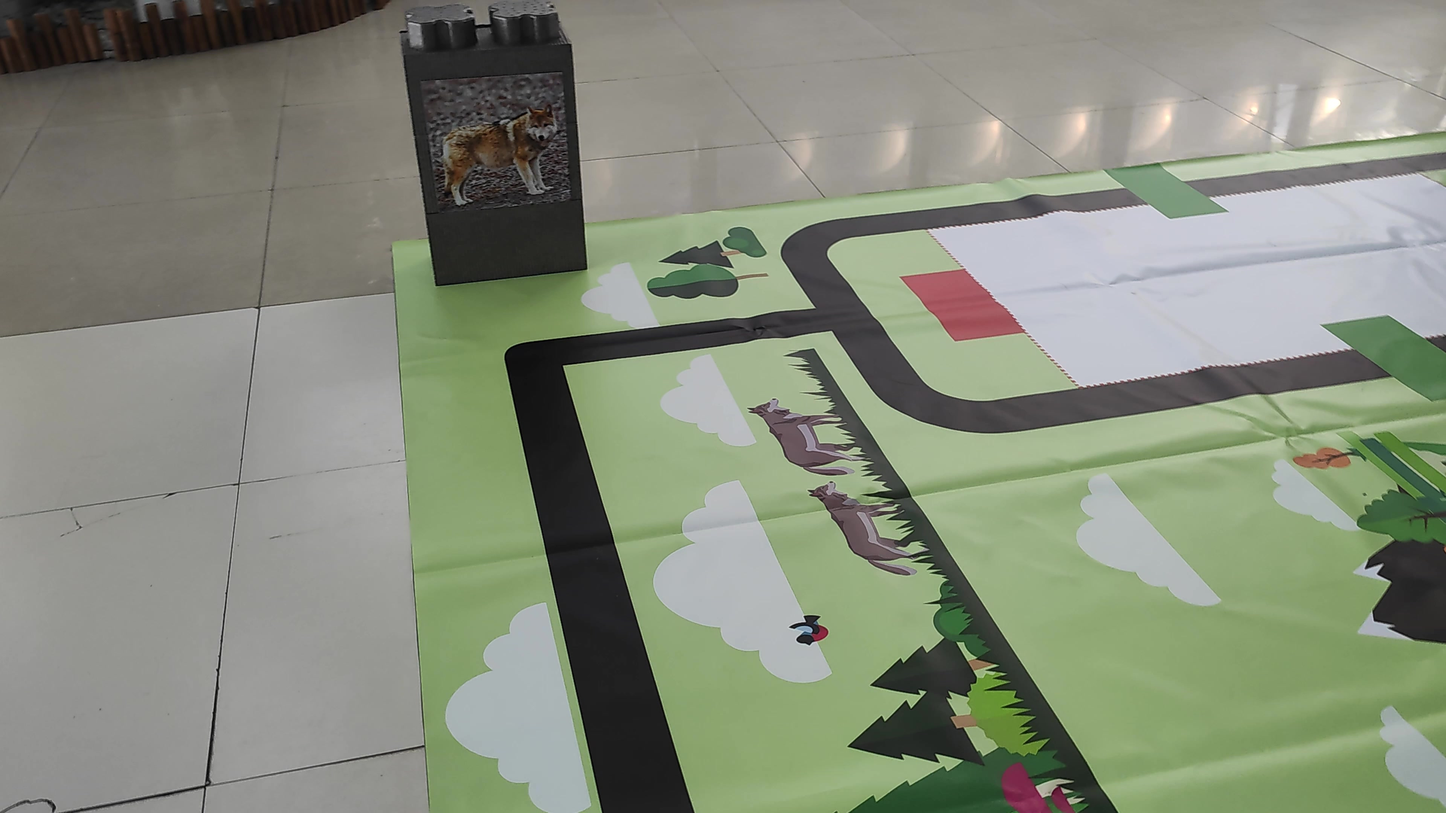wolf: (435, 72, 573, 196)
